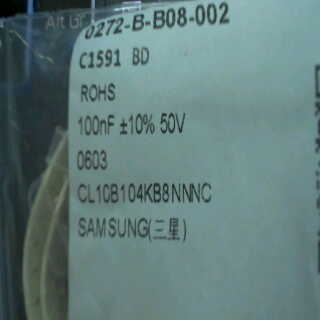100nF: (74, 110, 119, 139)
